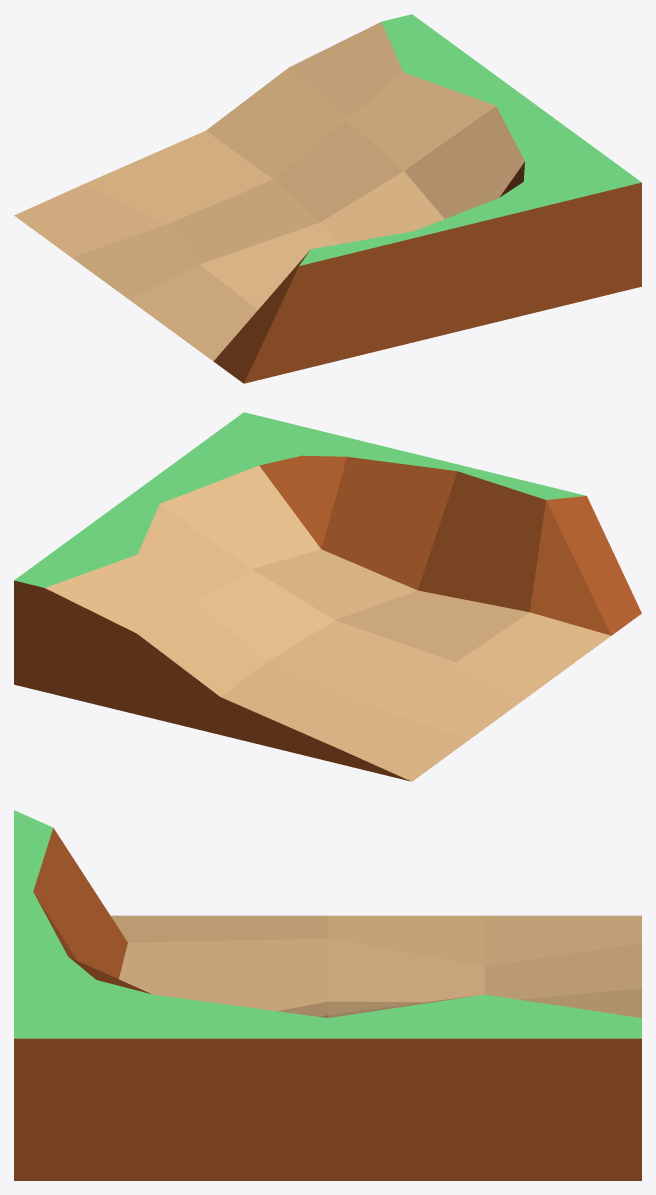
The model's file is beach_grassEnd_R.fbx.
3 renders of one model, top to bottom at view 1: azimuth 30°, elevation 25°; view 2: azimuth 150°, elevation 25°; view 3: azimuth 270°, elevation 25°, orthographic. The views are drawn at different scales.
Visible parts, largest first — view 1: beach_grassEnd_R; view 2: beach_grassEnd_R; view 3: beach_grassEnd_R.
Part boxes in pixels (left/top/right/bottom): beach_grassEnd_R: left=14, top=14, right=641, bottom=383; beach_grassEnd_R: left=14, top=412, right=641, bottom=781; beach_grassEnd_R: left=14, top=810, right=641, bottom=1180.
Size of the model in its own units: 200 by 50 by 200.
